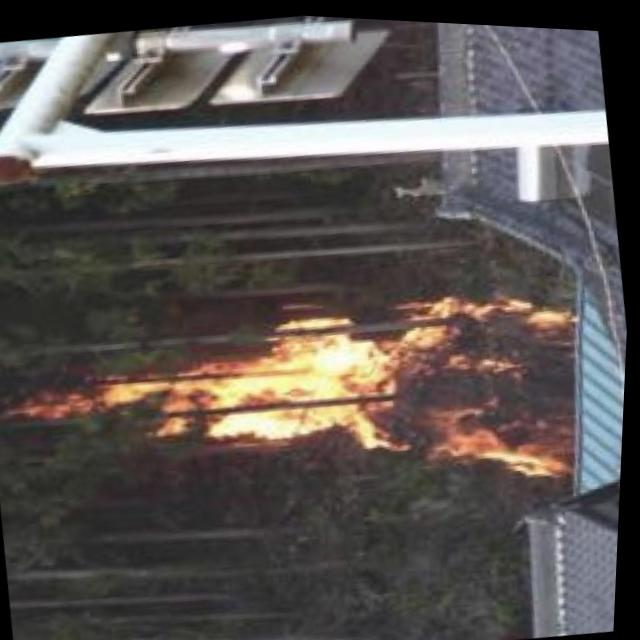Fire: (29, 261, 592, 537)
